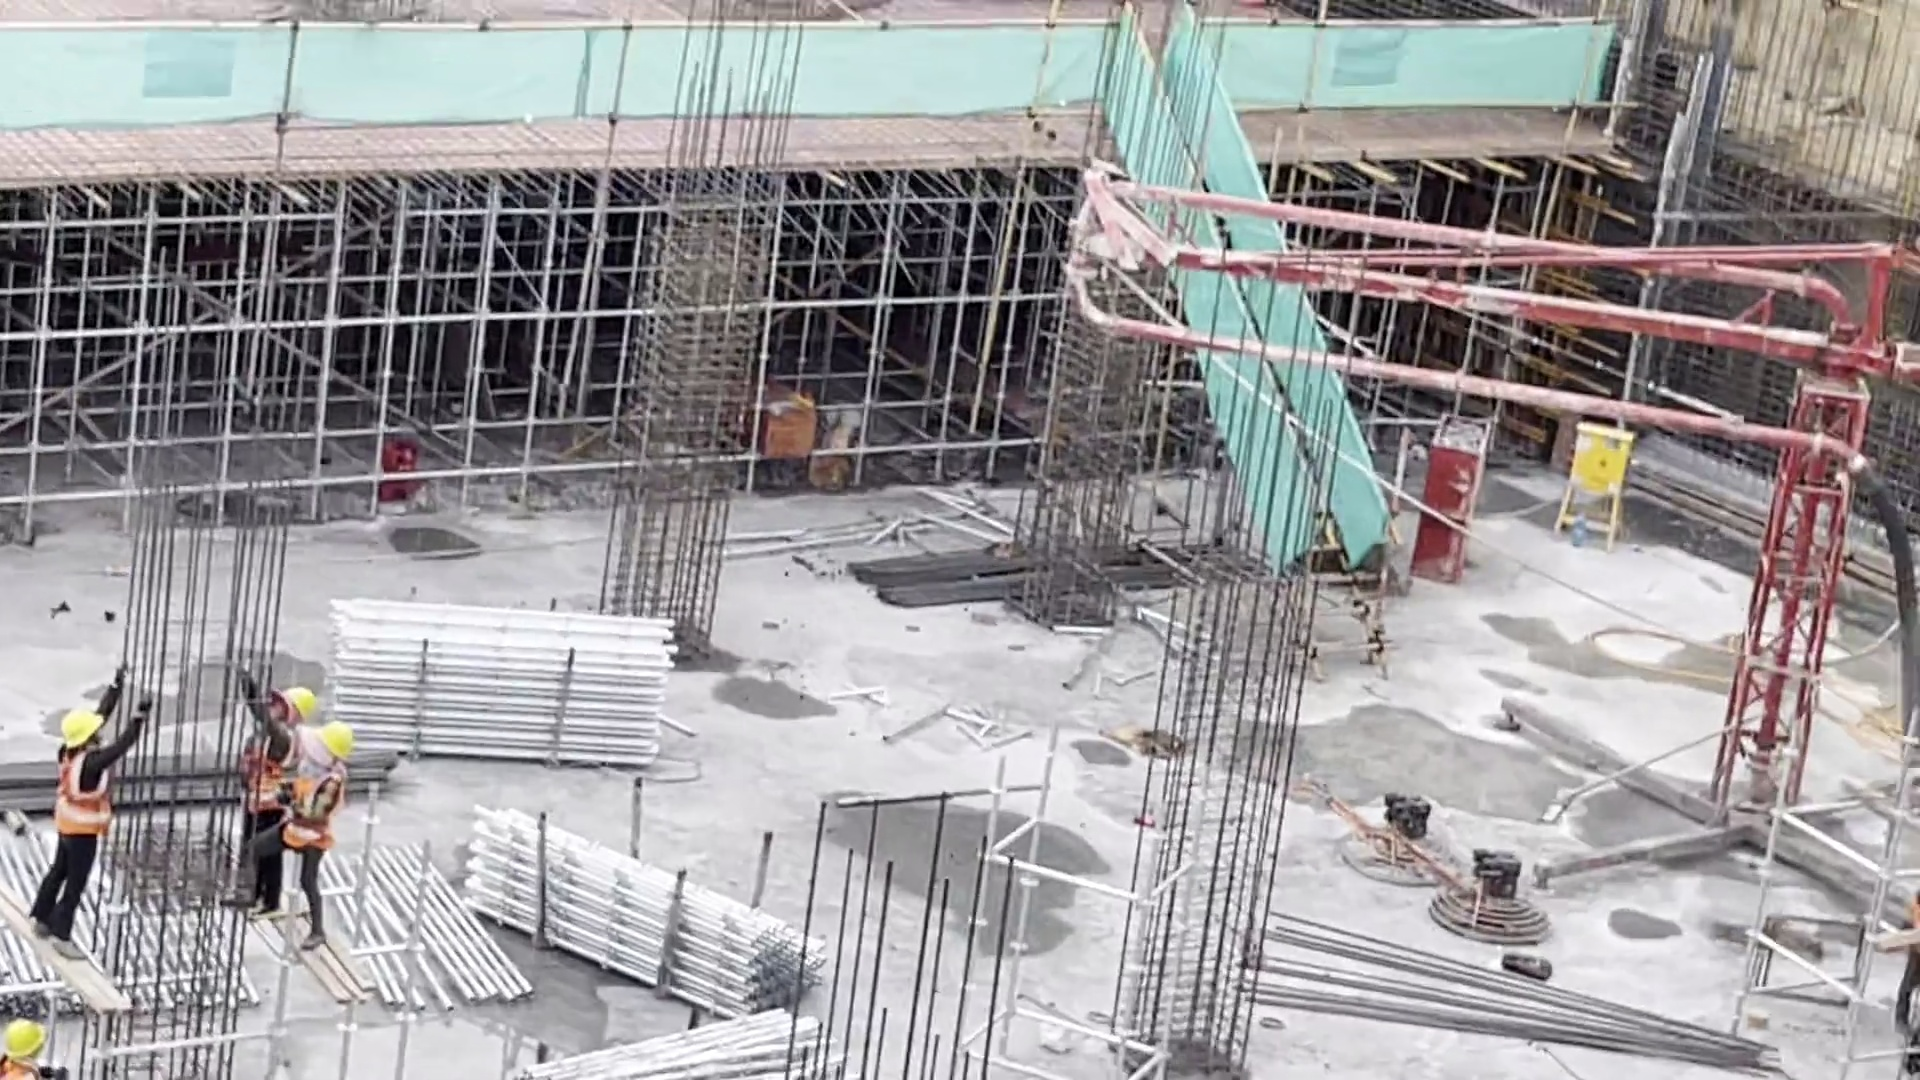ebox: (1565, 417, 1635, 543)
helmet: (315, 723, 354, 767), (60, 709, 101, 750), (1, 1022, 52, 1053), (270, 685, 311, 717)
person: (44, 705, 114, 954), (288, 720, 354, 931), (238, 674, 293, 895), (1, 1012, 82, 1078)
rebar: (840, 515, 1214, 601)
scaffold: (456, 797, 819, 1041), (317, 583, 673, 785), (482, 1008, 823, 1080)
vest: (51, 756, 108, 838), (292, 771, 341, 849), (245, 730, 285, 816)
